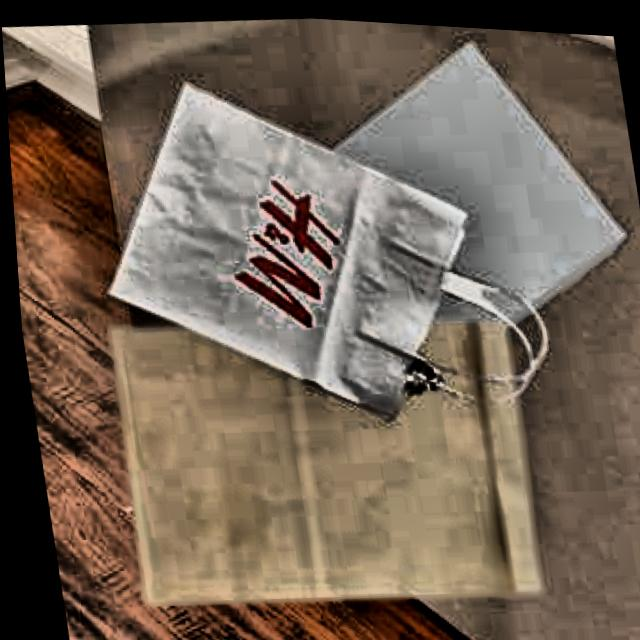Paper-bag: (56, 40, 569, 461), (82, 274, 556, 640)
